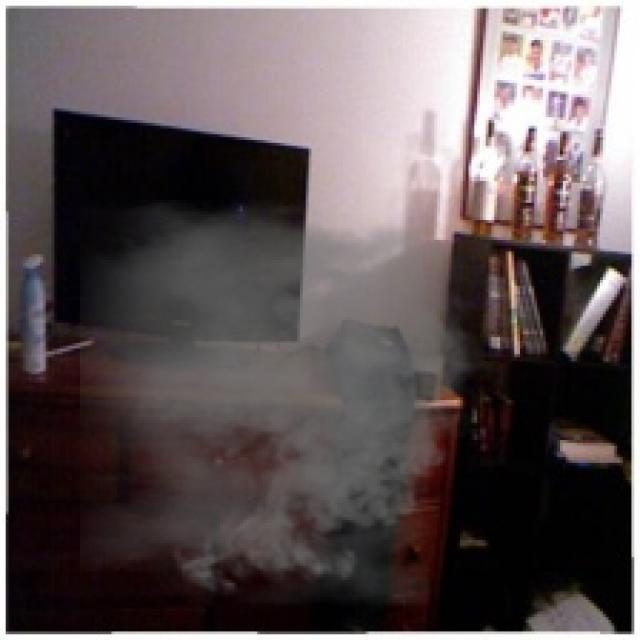Smoke: (80, 200, 497, 606)
